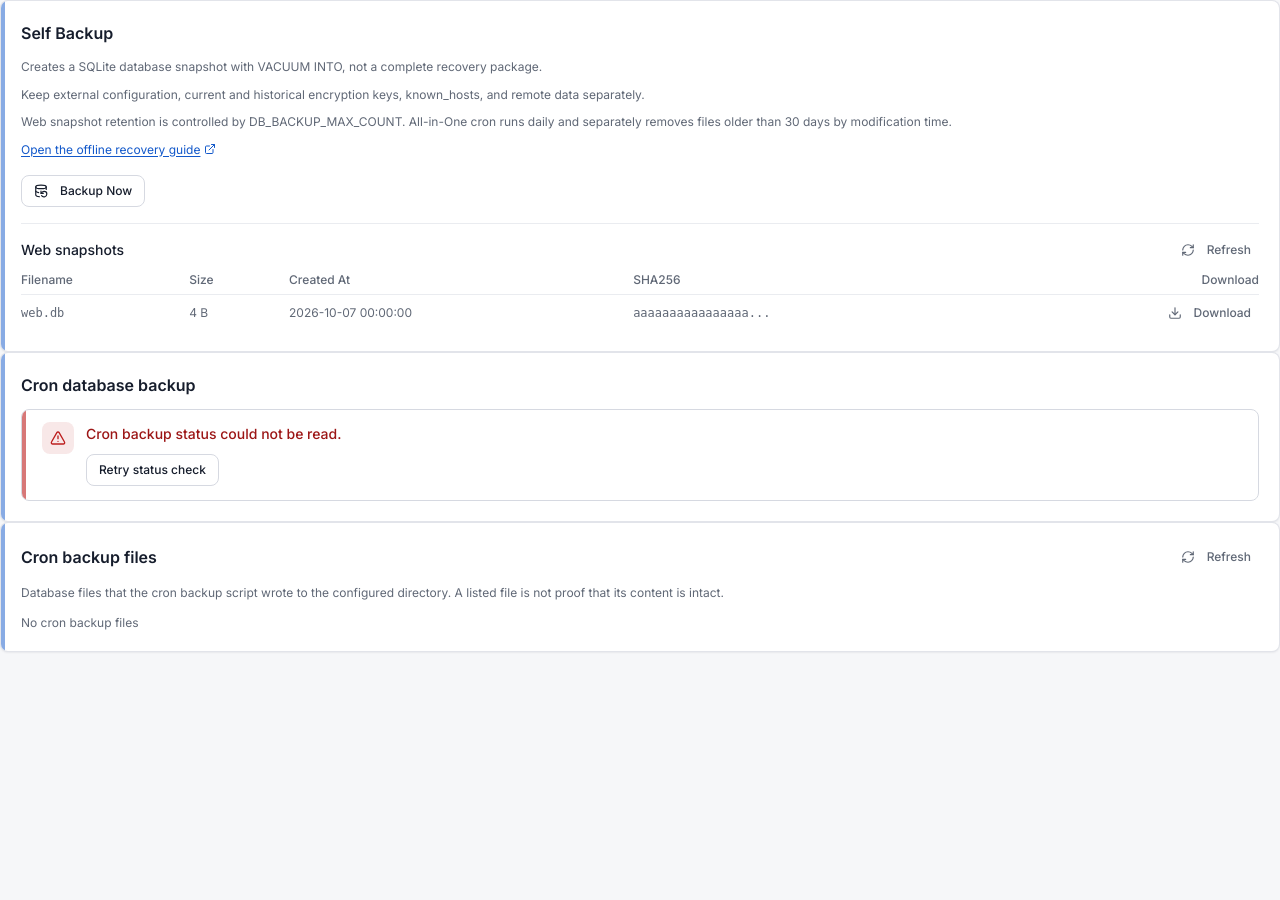
Scenario: shows an observer read failure without turning a malformed payload into a fresh backup
The image size is (1280, 900).
Expected: the text "web.db" is shown, [21,294,189,331]
Expected: the text "Cron backup status could not be read." is shown, [86,424,342,444]
Click the button "Retry status check": (152, 470) [86,454,219,486]
(page scrolled)
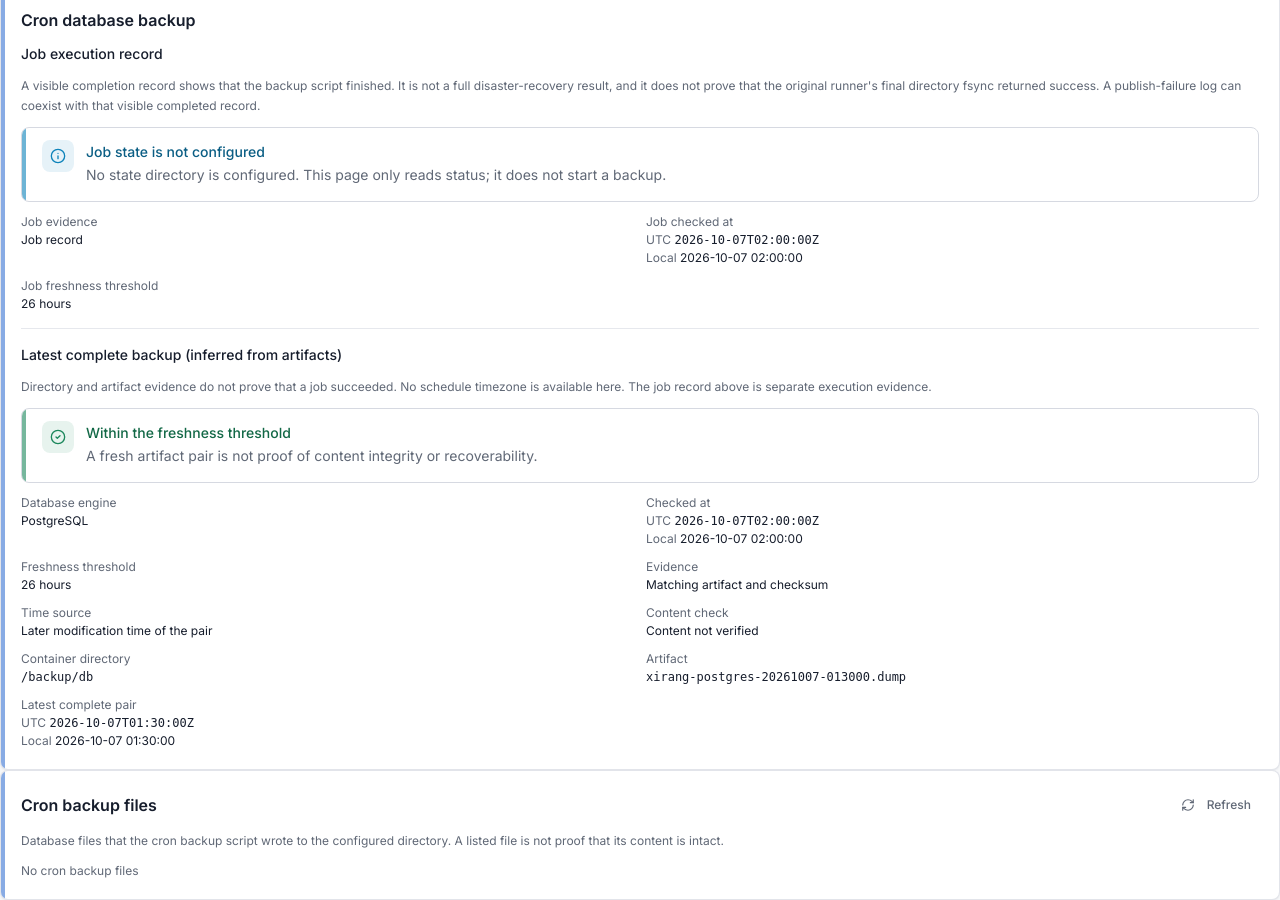
Expected: the text "xirang-postgres-20261007-013000.dump" is shown, [646,670,906,684]
